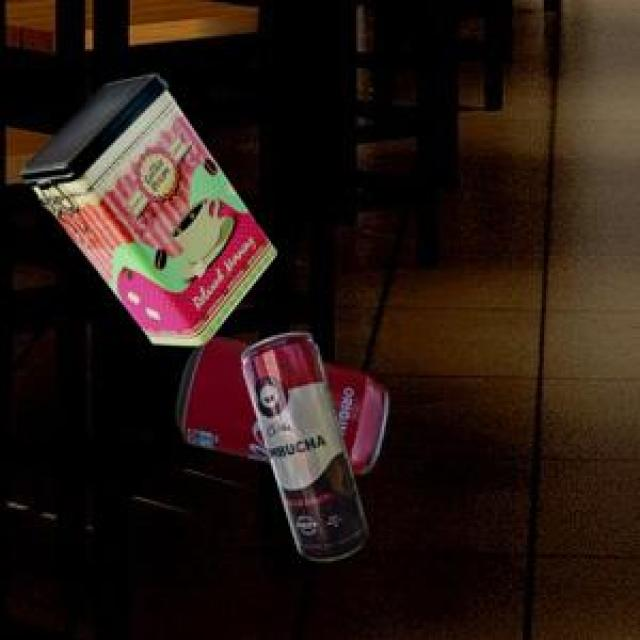logam: (18, 71, 274, 342), (238, 330, 364, 558), (174, 334, 385, 470)
